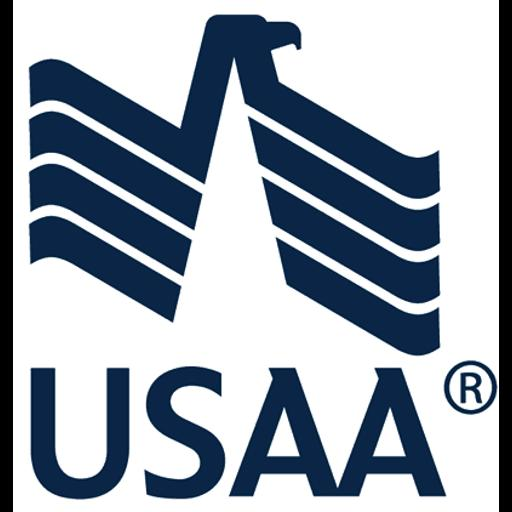United Services Automobile Association: (13, 0, 499, 512)
